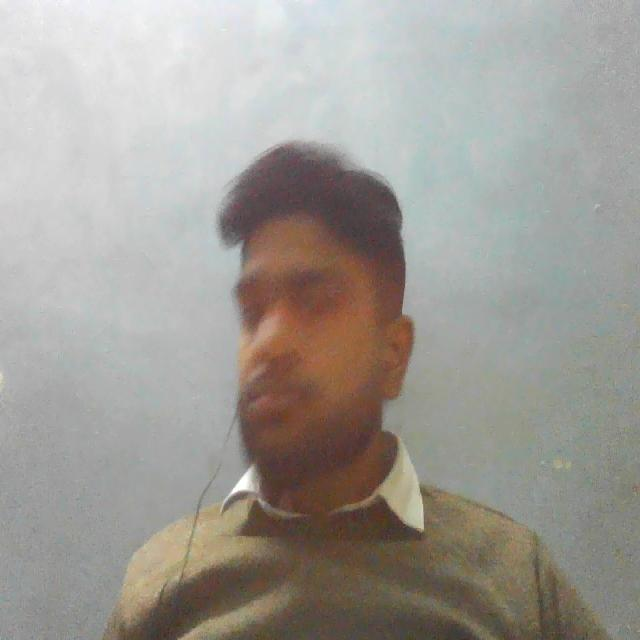real: (215, 134, 399, 482)
